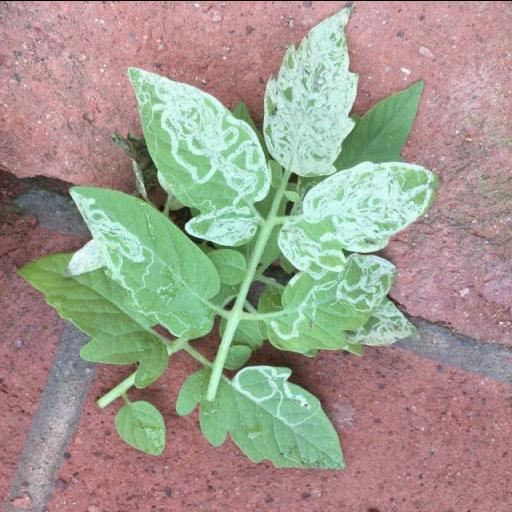Leaf Miner: (125, 66, 276, 246), (67, 184, 220, 334), (278, 155, 442, 273), (176, 358, 344, 468), (263, 1, 360, 177), (260, 254, 394, 354)
